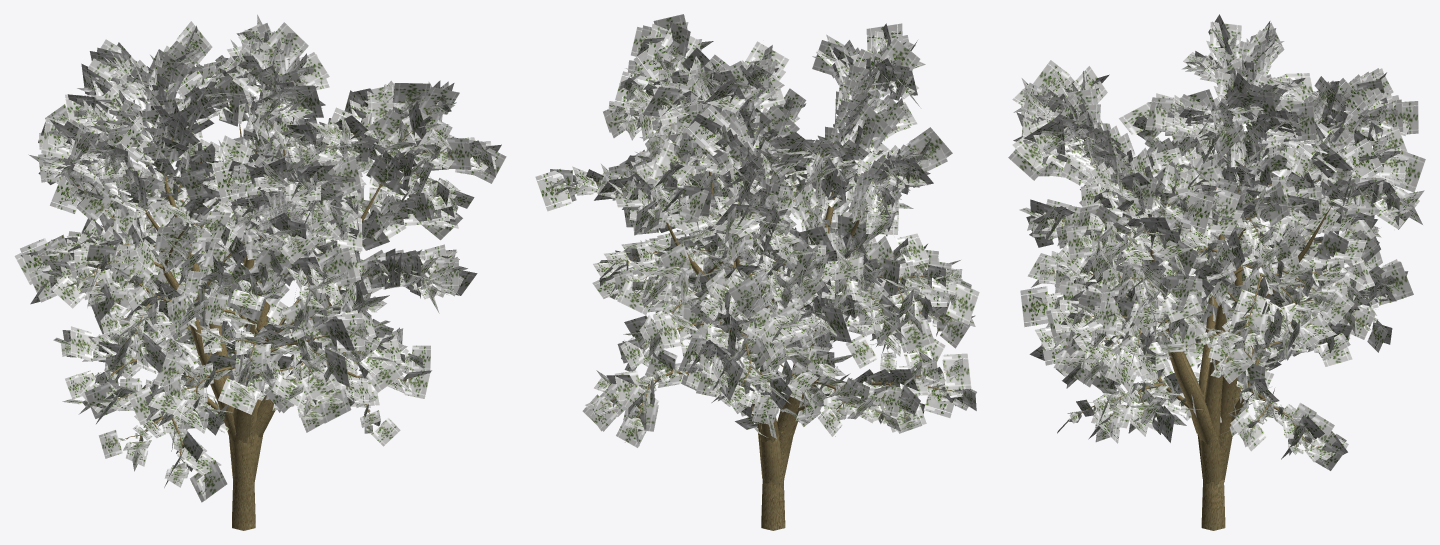
File: tree3.glb
3 renders of one model, left to right at view 1: azimuth 30°, elevation 25°; view 2: azimuth 150°, elevation 25°; view 3: azimuth 270°, elevation 25°, orthographic.
Parts seen in each view (by area): view 1: leaves, tree; view 2: leaves, tree; view 3: leaves, tree.
Boxes of the visible parts, x1,y1,x2,y2 form: leaves: [14, 14, 506, 502]; tree: [79, 124, 445, 530]; leaves: [535, 14, 979, 447]; tree: [596, 57, 956, 530]; leaves: [1008, 14, 1425, 470]; tree: [1050, 135, 1385, 530].
Bounding box in the file's own units: 14.69 × 16.83 × 13.54.
2 materials, 2 textured.
